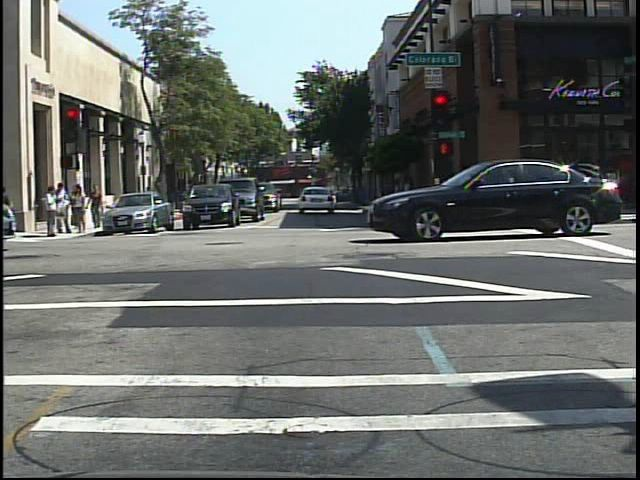person: (72, 186, 86, 229), (141, 183, 158, 216)
